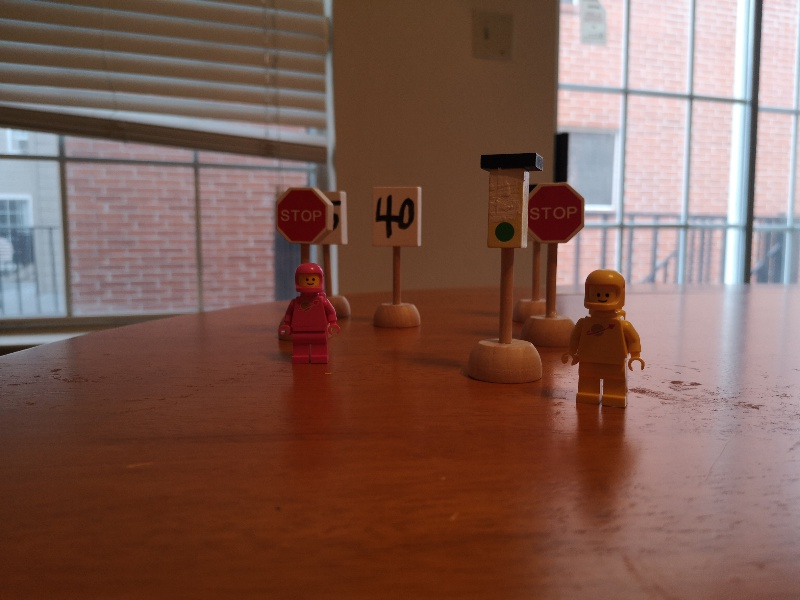Green Traffic Light: (478, 154, 543, 250)
Person: (563, 269, 648, 414), (277, 264, 345, 366)
Speed Limit 40: (367, 184, 426, 329)
Stop Sign: (272, 185, 335, 247), (529, 182, 588, 247)
